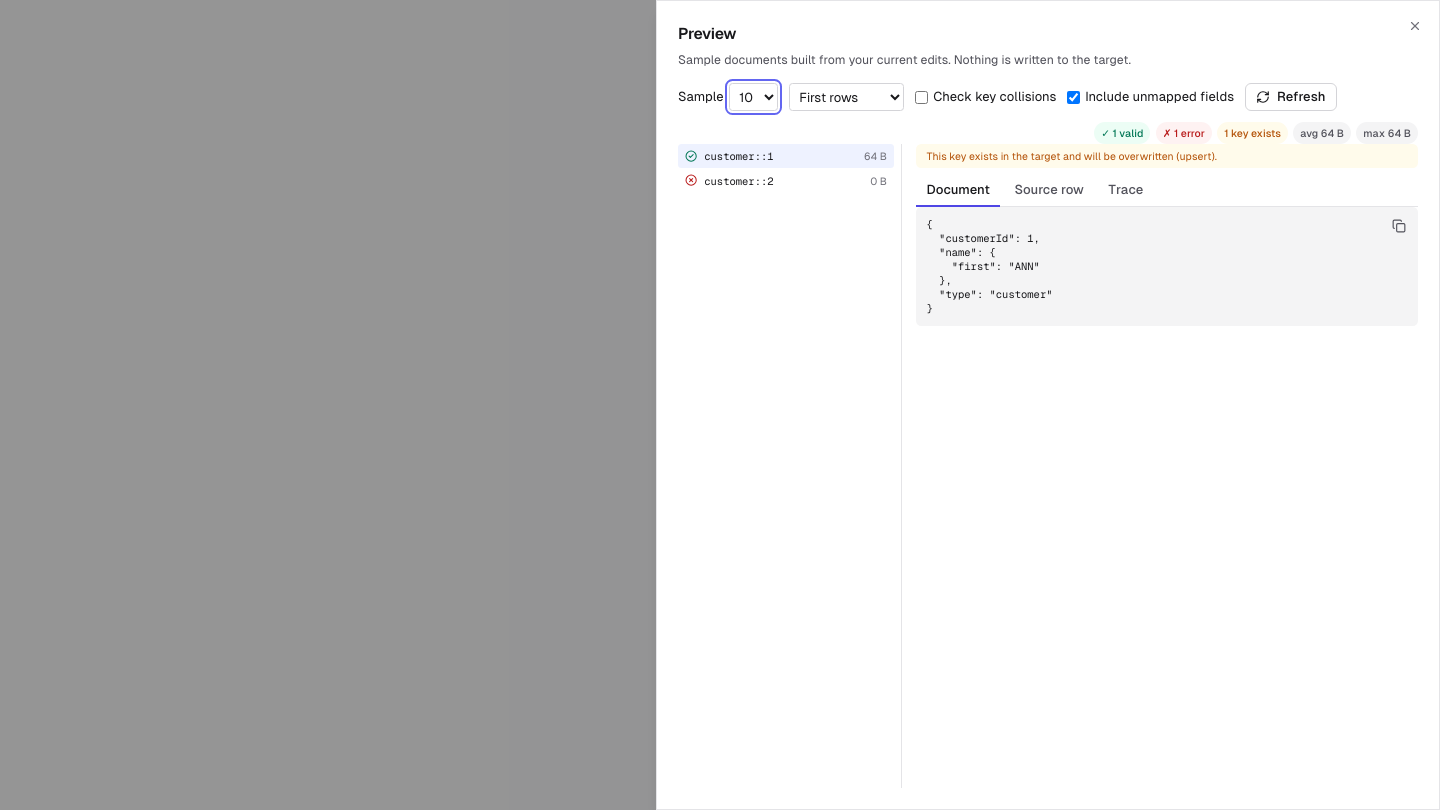
it: PreviewDrawer › AC6: renders step trace
Expected: the text "✓ 1 valid" is shown, [1094,122,1150,144]
Click the tab "Trace".
click(1126, 191)  # box [1098,175,1154,207]
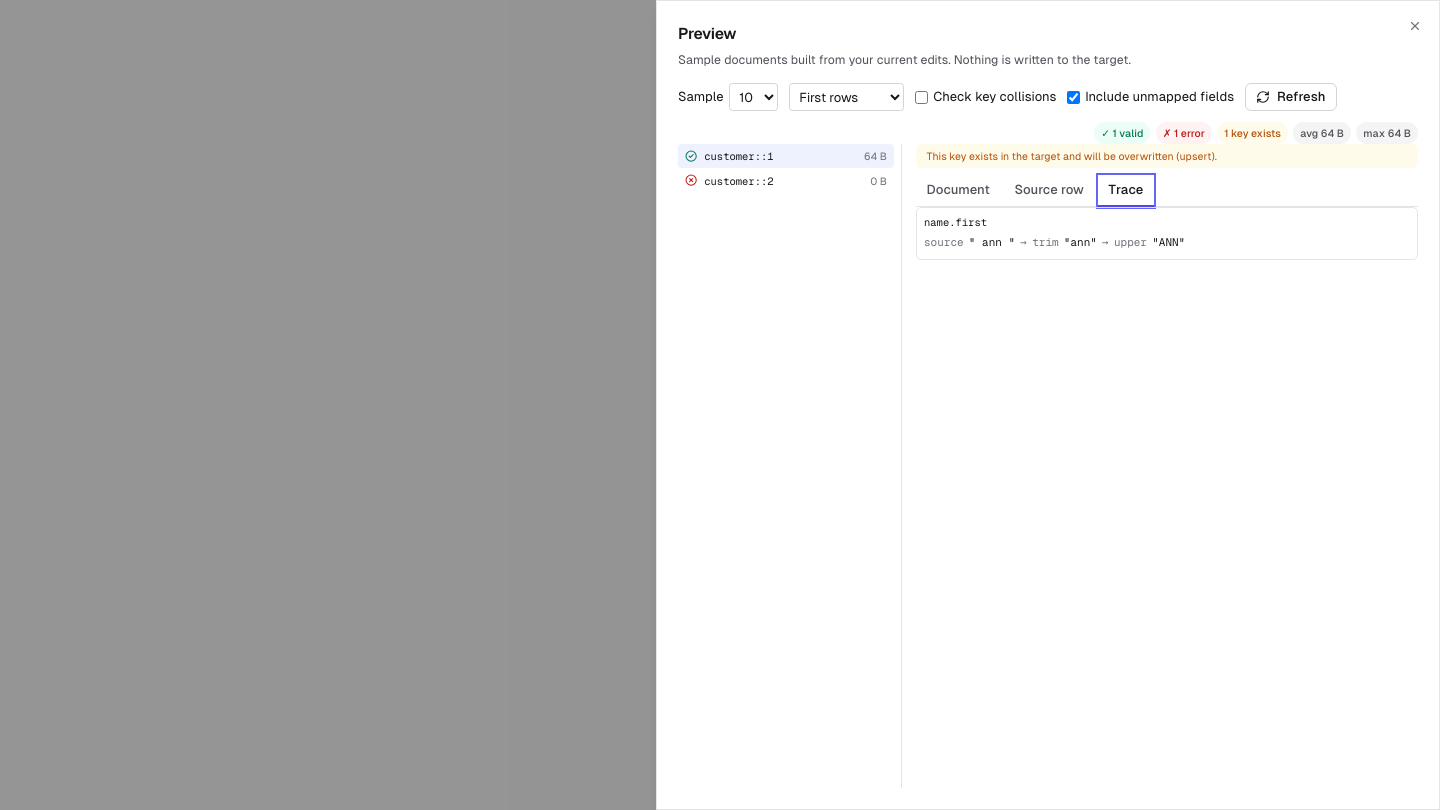
Now the text "name.first" is shown, box [924,215,987,229]
Now the text "\" ann \"" is shown, box [969,232,1015,252]
Now the text "\"ann\"" is shown, box [1064,232,1097,252]
